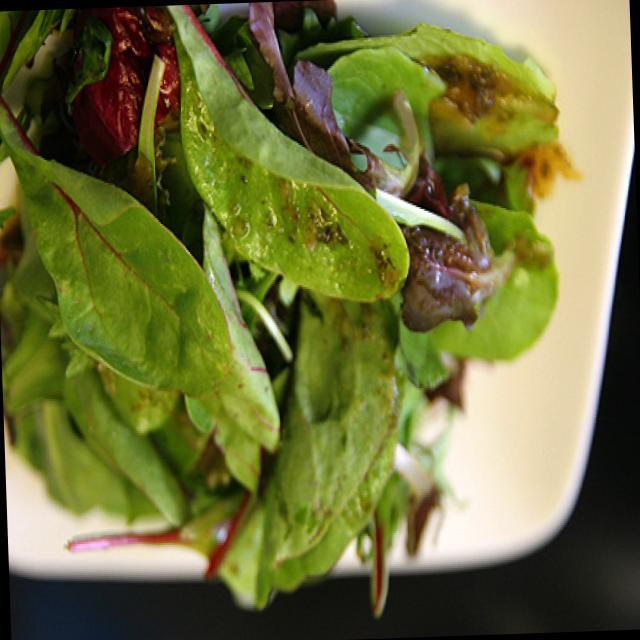Green Salad: (0, 10, 552, 591)
